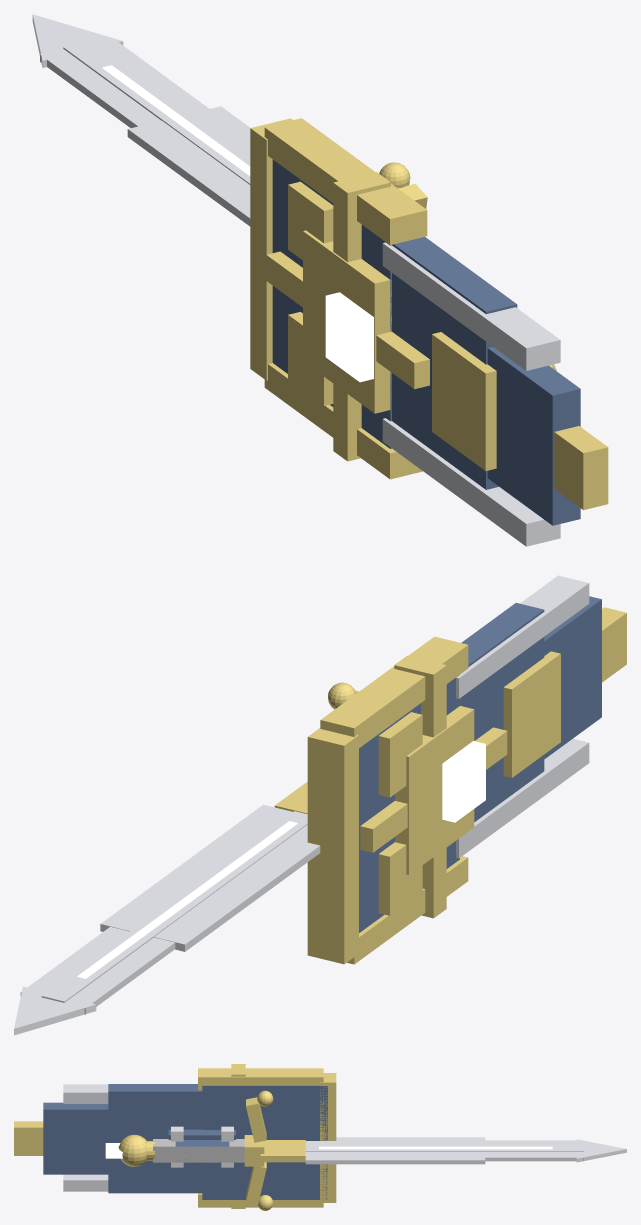
Rendered from art_paladin_spatha.fbx.
3 renders of one model, top to bottom at view 1: azimuth 30°, elevation 25°; view 2: azimuth 150°, elevation 25°; view 3: azimuth 270°, elevation 25°, orthographic. The views are drawn at different scales.
Parts seen in each view (by area): view 1: HeaterPoint, HeaterMid, SunCenterDisc, RimL1, ChevronLower, RimL2, RimTopGold, RimR2, HeaterBase, LeafSwellBack, HeaterTip, SunCoreFlame (+14 smaller); view 2: RimTopGold, SunCenterDisc, HeaterMid, RimL1, HeaterPoint, ChevronLower, LeafSwellBack, LeafSwellFwd, RimL2, BladeFuller, HeaterBase, RimR2 (+14 smaller); view 3: HeaterBase, HeaterMid, HeaterPoint, LeafSwellFwd, RimL1, Handle, RimTopGold, LeafSwellBack, BladeFuller, HeaterTip, Ricasso, EdgeUpperFwd (+15 smaller).
Boxes of the visible parts, bbox=[...] form: HeaterPoint: bbox=[487, 347, 580, 525]; HeaterMid: bbox=[392, 237, 517, 489]; SunCenterDisc: bbox=[303, 230, 391, 413]; RimL1: bbox=[264, 118, 427, 245]; ChevronLower: bbox=[432, 332, 496, 470]; RimL2: bbox=[382, 242, 560, 370]; RimTopGold: bbox=[250, 118, 292, 380]; RimR2: bbox=[382, 418, 560, 546]; HeaterBase: bbox=[272, 159, 391, 448]; LeafSwellBack: bbox=[127, 120, 250, 226]; HeaterTip: bbox=[554, 426, 608, 509]; SunCoreFlame: bbox=[325, 292, 373, 382]; RimTopGold: bbox=[307, 728, 358, 964]; SunCenterDisc: bbox=[395, 706, 474, 874]; HeaterMid: bbox=[460, 603, 544, 821]; RimL1: bbox=[320, 636, 468, 747]; HeaterPoint: bbox=[544, 596, 601, 759]; ChevronLower: bbox=[503, 651, 560, 777]; LeafSwellBack: bbox=[154, 825, 320, 951]; LeafSwellFwd: bbox=[100, 804, 292, 931]; RimL2: bbox=[456, 575, 589, 698]; BladeFuller: bbox=[41, 811, 307, 1002]; HeaterBase: bbox=[359, 675, 459, 932]; RimR2: bbox=[456, 738, 589, 858]; HeaterBase: bbox=[202, 1085, 327, 1199]; HeaterMid: bbox=[108, 1084, 202, 1193]; HeaterPoint: bbox=[43, 1102, 108, 1174]; LeafSwellFwd: bbox=[305, 1152, 485, 1164]; RimL1: bbox=[198, 1068, 323, 1090]; Handle: bbox=[153, 1139, 244, 1162]; RimTopGold: bbox=[320, 1073, 336, 1202]; LeafSwellBack: bbox=[305, 1137, 485, 1145]; BladeFuller: bbox=[305, 1145, 583, 1151]; HeaterTip: bbox=[14, 1121, 43, 1155]; Ricasso: bbox=[260, 1140, 305, 1162]; EdgeUpperFwd: bbox=[485, 1152, 583, 1161].
Bounding box in the file's own units: 0.92 × 1.65 × 6.83.
